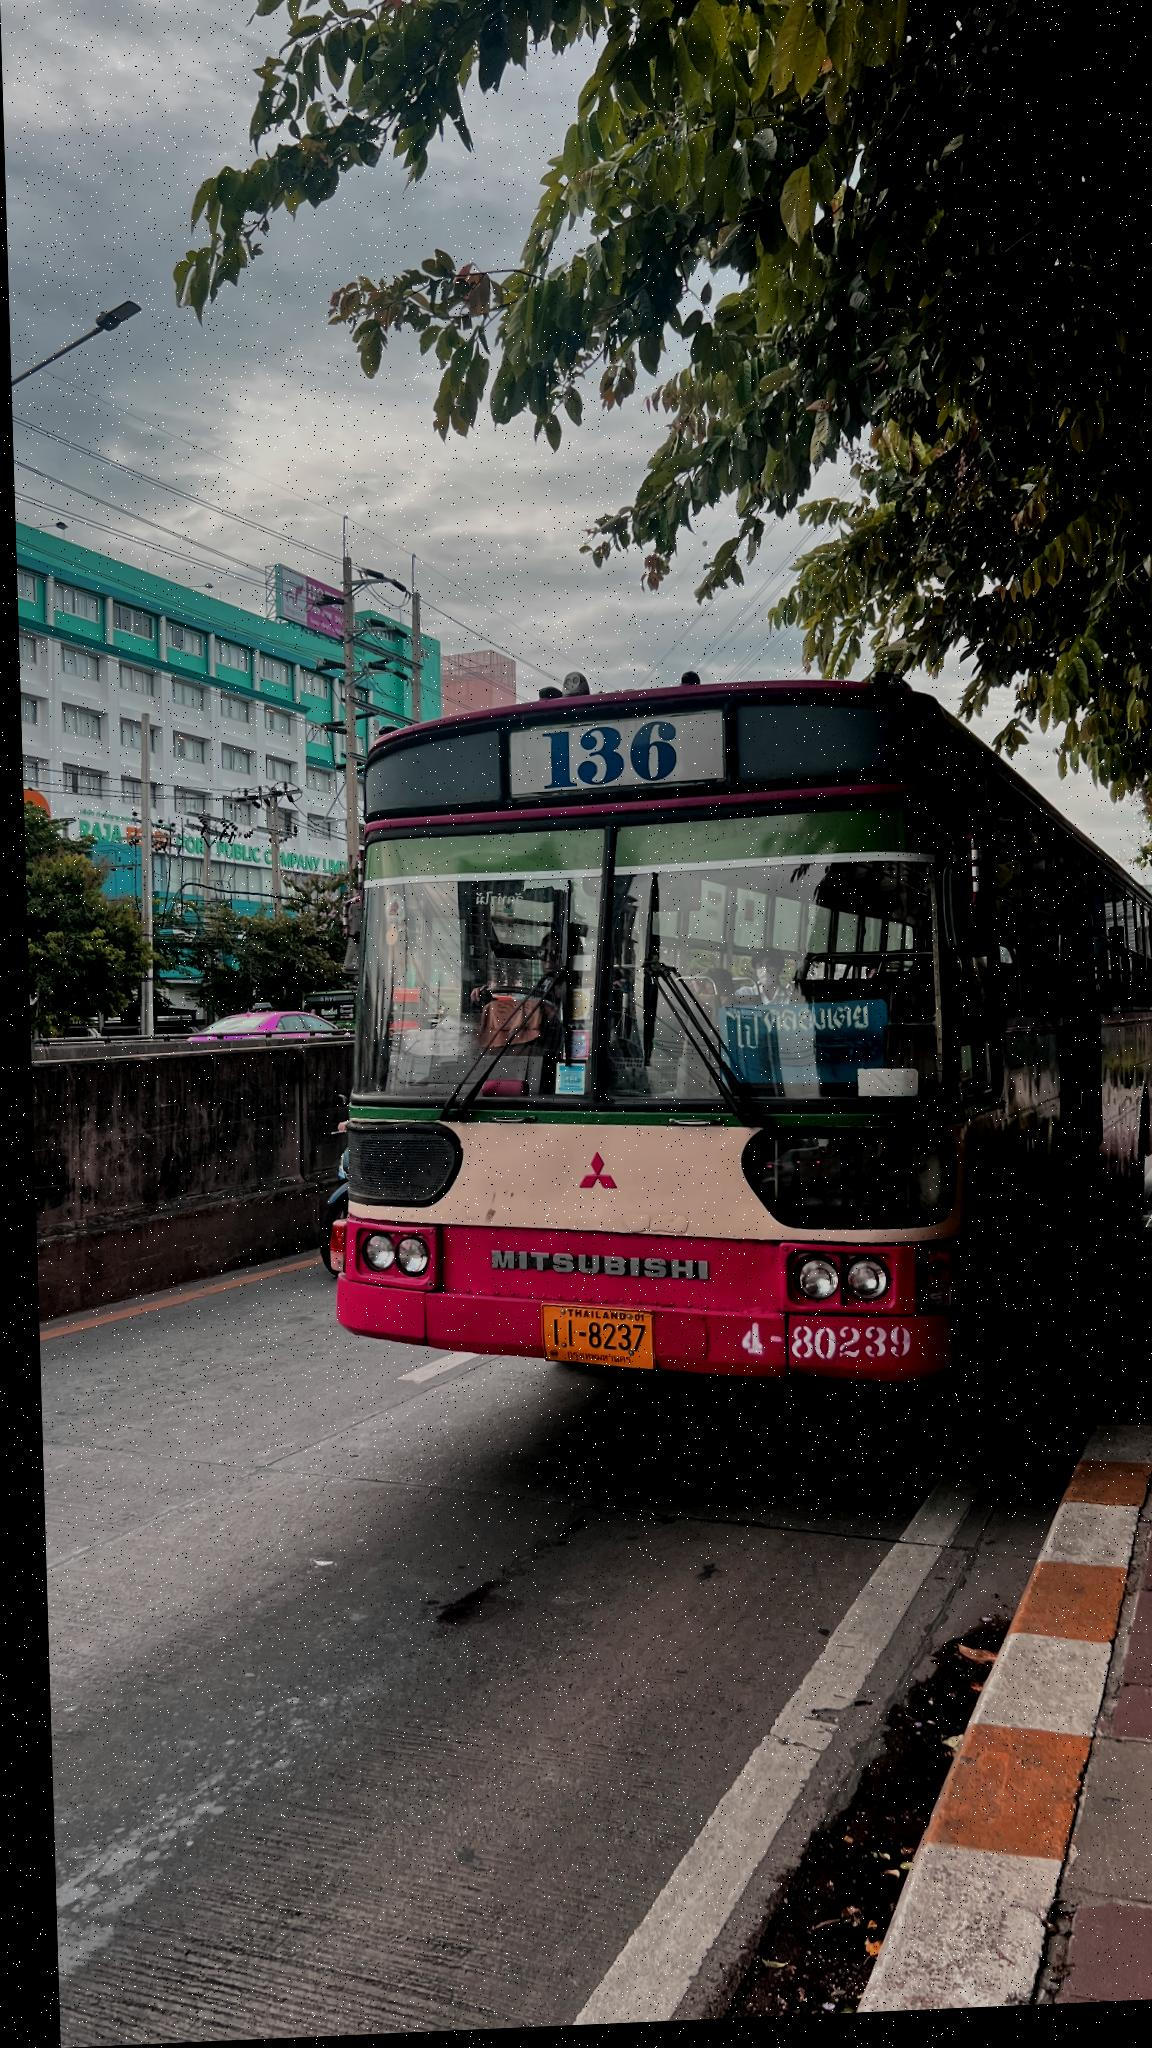BMTA-bus: (316, 685, 1152, 1402)
Bus Line Number: (498, 719, 730, 800)
Bus Side Number: (710, 1314, 923, 1381)
Destination Sign: (708, 994, 889, 1099)
